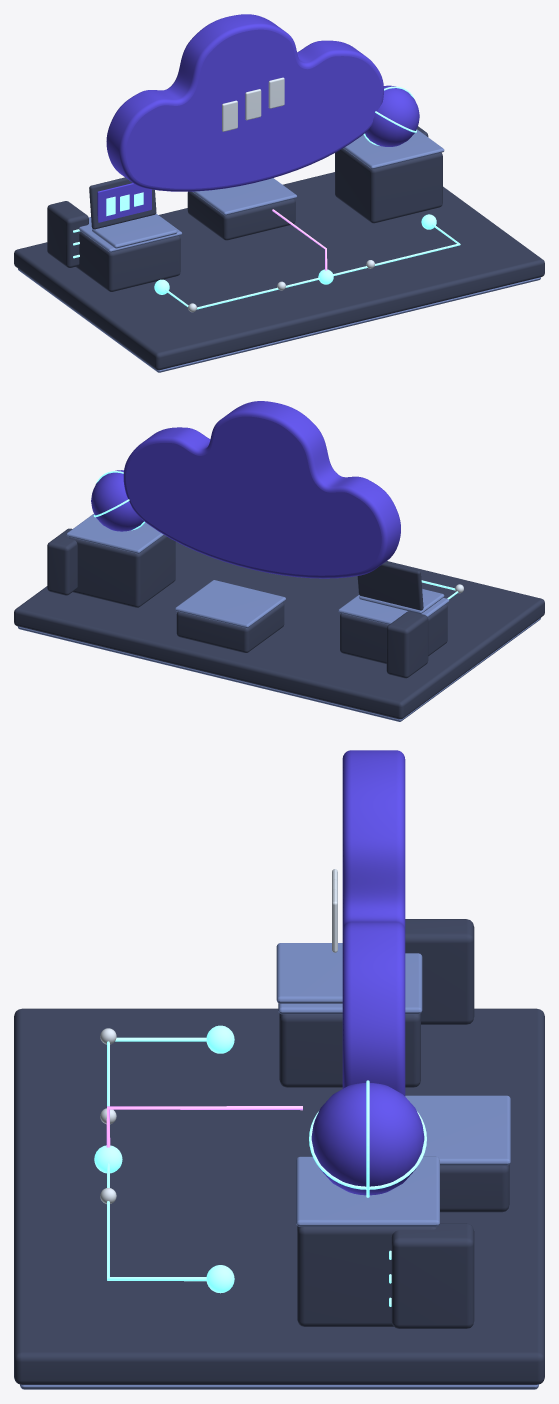
Rendered from cloud.glb.
3 renders of one model, top to bottom at view 1: azimuth 30°, elevation 25°; view 2: azimuth 150°, elevation 25°; view 3: azimuth 270°, elevation 25°, orthographic. The views are drawn at different scales.
Visible parts, largest first — view 1: Studio platform, Floating Flowboard cloud, Raised workstation.001, Raised workstation, Raised workstation.002, Idea globe, Workstation edge.002, Idea archive, Workstation edge.001, Laptop deck, Illuminated platform rim, Laptop screen light (+6 smaller); view 2: Studio platform, Floating Flowboard cloud, Raised workstation.001, Workstation edge.002, Raised workstation.002, Raised workstation, Idea archive, Laptop display, Idea globe, Workstation edge.001, Idea archive.001, Illuminated platform rim (+2 smaller); view 3: Studio platform, Floating Flowboard cloud, Raised workstation.001, Idea globe, Idea archive.001, Workstation edge.001, Workstation edge.002, Idea archive, Raised workstation, Laptop deck, Raised workstation.002, Illuminated platform rim (+4 smaller).
Boxes of the visible parts, x1,y1,x2,y2 form: Studio platform: [14, 172, 544, 370]; Floating Flowboard cloud: [106, 14, 383, 191]; Raised workstation.001: [335, 148, 442, 223]; Raised workstation: [76, 232, 180, 291]; Raised workstation.002: [187, 191, 295, 240]; Idea globe: [365, 85, 419, 146]; Workstation edge.002: [192, 178, 296, 215]; Idea archive: [47, 201, 88, 267]; Workstation edge.001: [343, 129, 444, 169]; Laptop deck: [92, 215, 177, 248]; Illuminated platform rim: [18, 268, 540, 372]; Laptop screen light: [97, 183, 151, 222]; Studio platform: [14, 541, 544, 719]; Floating Flowboard cloud: [123, 401, 400, 578]; Raised workstation.001: [69, 535, 175, 607]; Workstation edge.002: [175, 580, 285, 628]; Raised workstation.002: [176, 602, 284, 652]; Raised workstation: [340, 604, 447, 663]; Idea archive: [386, 611, 428, 678]; Laptop display: [357, 562, 423, 610]; Idea globe: [91, 470, 143, 531]; Workstation edge.001: [66, 514, 163, 553]; Idea archive.001: [47, 528, 77, 595]; Illuminated platform rim: [18, 618, 540, 721]; Studio platform: [14, 1008, 544, 1384]; Floating Flowboard cloud: [342, 750, 405, 1096]; Raised workstation.001: [297, 1226, 436, 1326]; Idea globe: [311, 1083, 424, 1195]; Idea archive.001: [391, 1223, 474, 1328]; Workstation edge.001: [296, 1156, 439, 1226]; Workstation edge.002: [405, 1095, 510, 1165]; Idea archive: [405, 919, 474, 1024]; Raised workstation: [279, 1013, 420, 1087]; Laptop deck: [276, 943, 342, 1003]; Raised workstation.002: [440, 1165, 509, 1212]; Illuminated platform rim: [20, 1384, 538, 1389].
Bounding box in the file's own units: 7 × 4.12 × 4.5.
